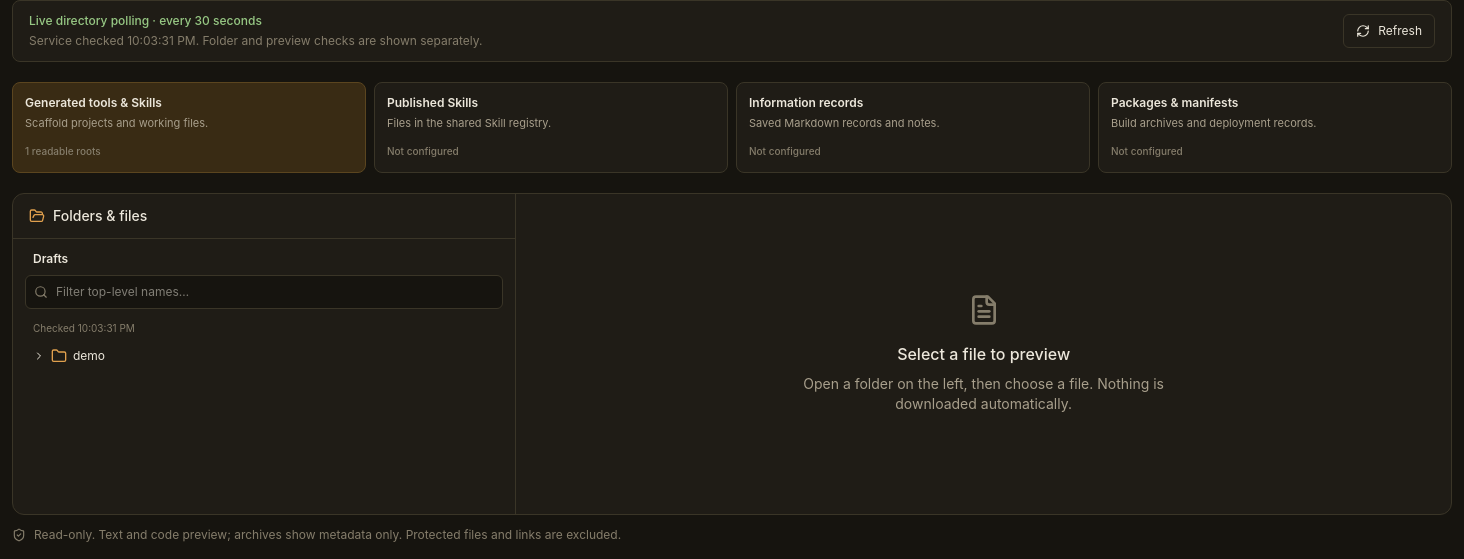
Files live browser › escapes HTML instead of executing it
Click the button "demo" at (89, 356), box [25,340,503,372]
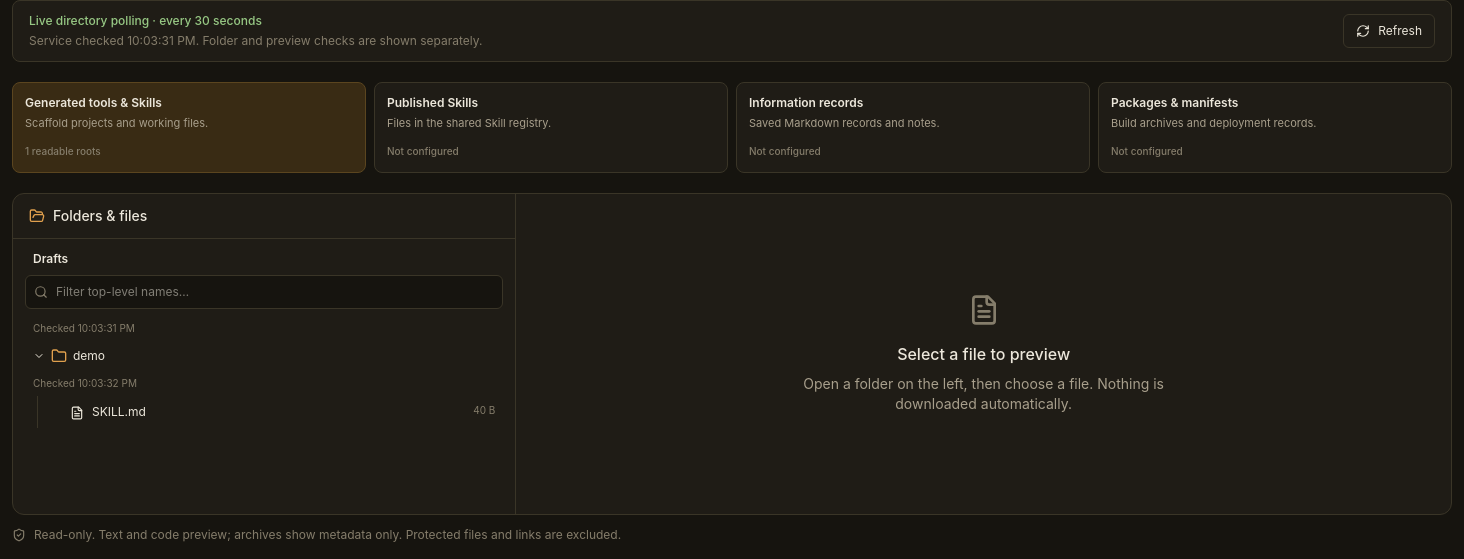
Click the button "SKILL.md 40 B" at (119, 411), box [46,396,503,428]
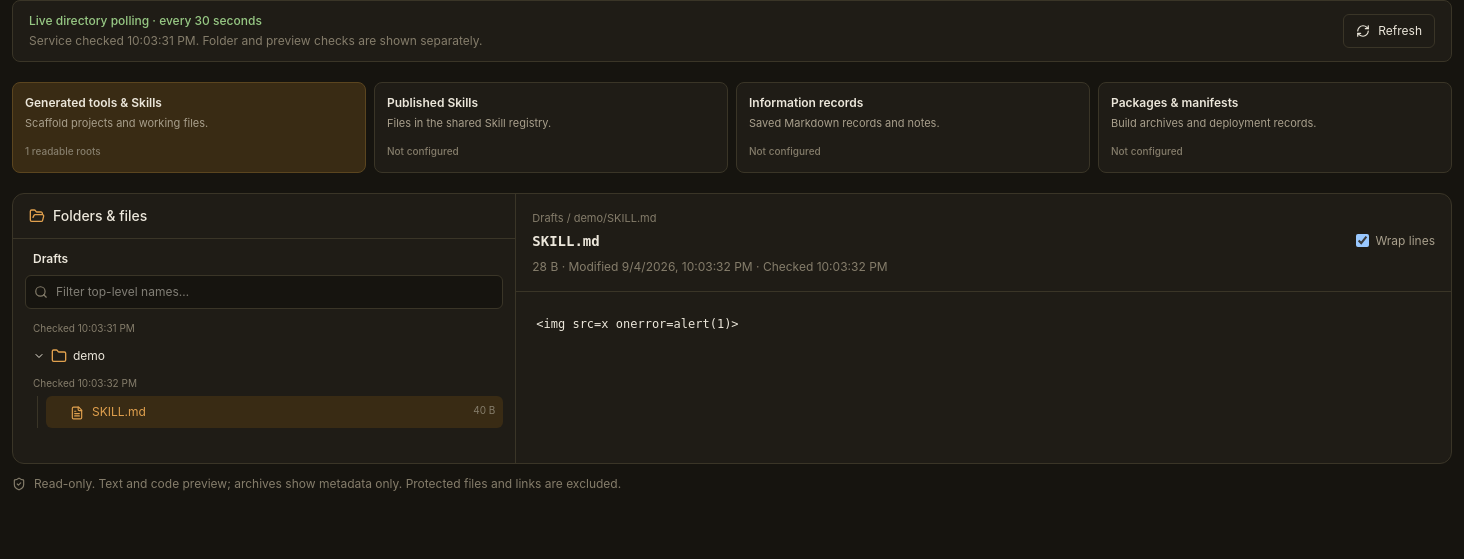
Check: the element named "File content" reads "<img src=x onerror=alert(1)>", box [536,317,739,331]
